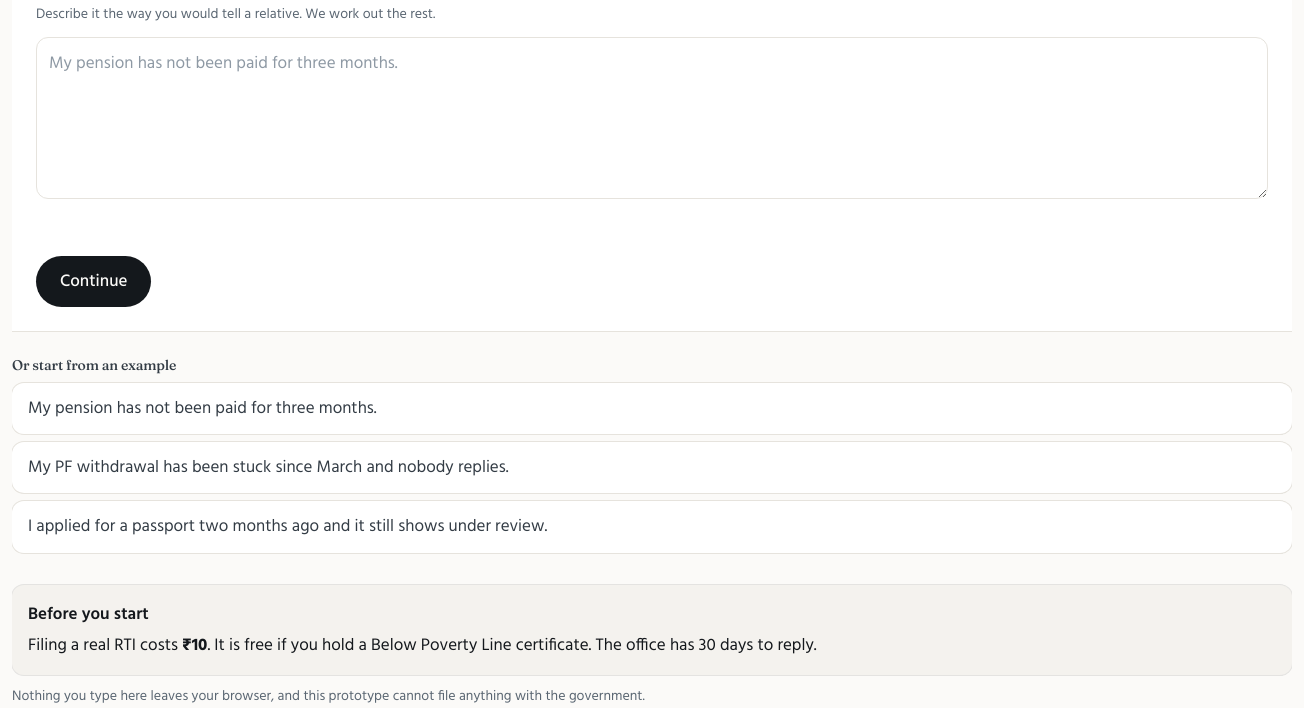
Landing › fills the field from an example without submitting
(page scrolled)
Click the button "My pension has not been paid for three months.": (202, 409) [12,383,1292,434]
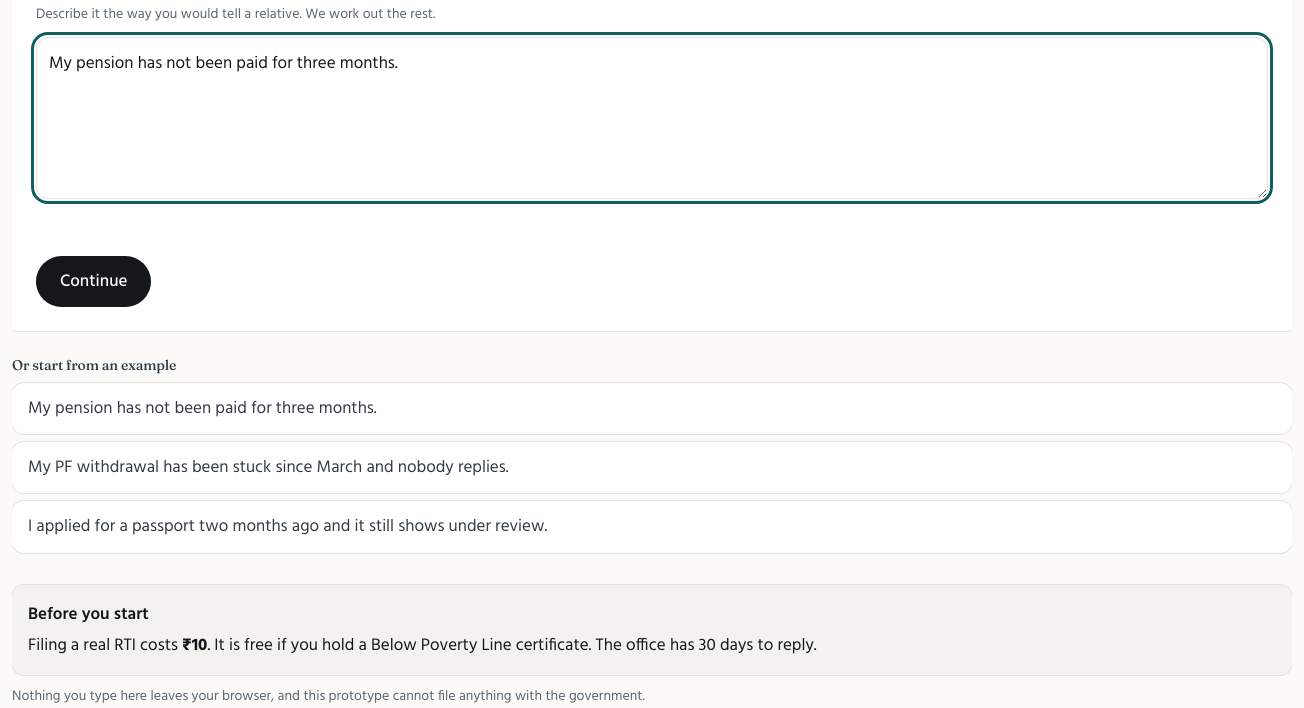
Expected: the text box labelled "Tell us about your problem" holds "My pension has not been paid for three months.", [36,37,1268,199]
